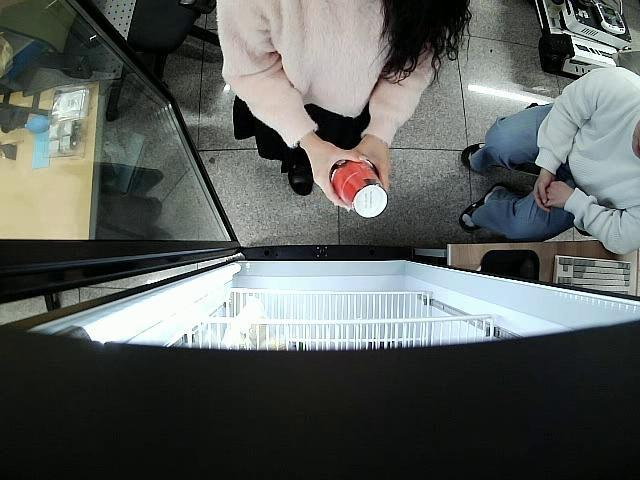02_shinRamen_S: (331, 158, 388, 218)
